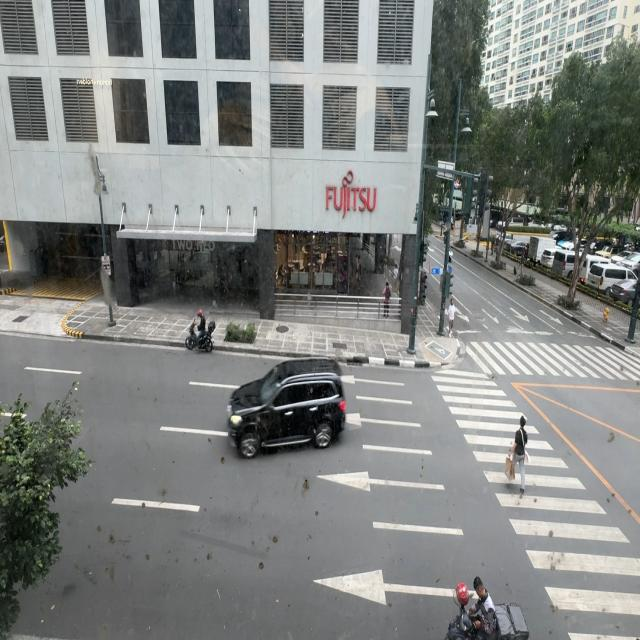crossing: (507, 414, 528, 498)
pedestrain: (382, 282, 392, 318), (393, 264, 399, 295), (355, 254, 361, 284)
waiting: (447, 298, 457, 333)
